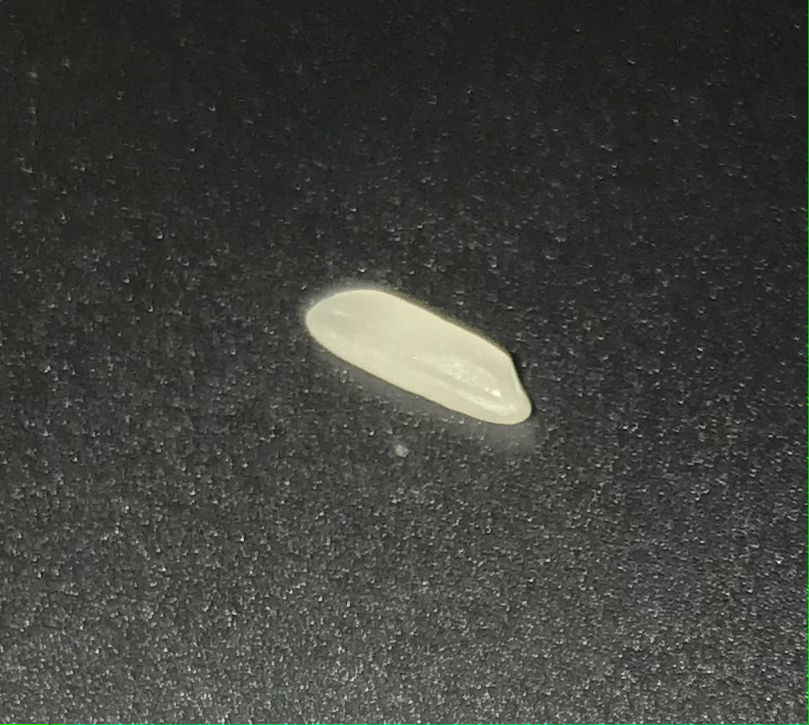Gao Thom My: (282, 269, 557, 445)
